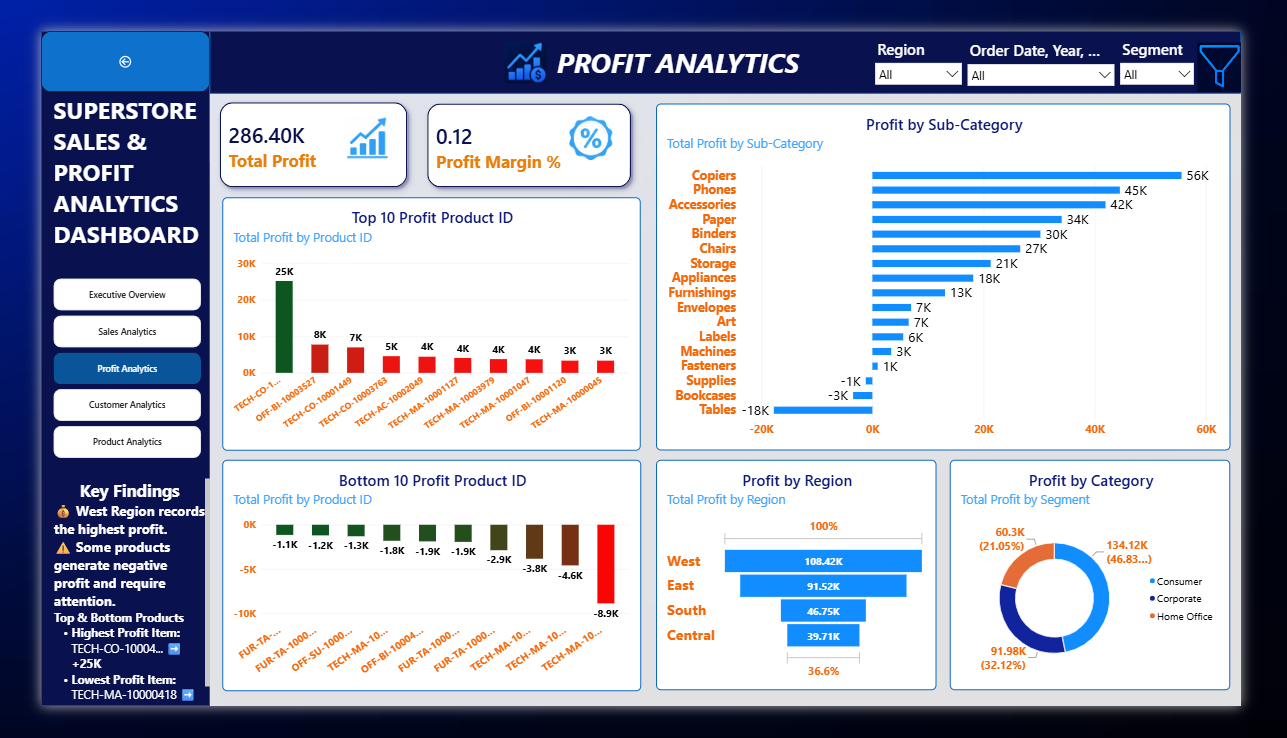

Layout of this report page (visuals, bound fields, positions):
{"tool":"powerbi","page":{"name":"Profit Analytics","canvas":[1920,1080],"ordinal":2},"visuals":[{"type":"shape","box":[0,0,270,1080],"z":0},{"type":"textbox","box":[20,100,250,276],"z":1000},{"type":"pageNavigator","box":[20,396,236,290],"z":2000},{"type":"shape","box":[270,0,1650,100],"z":3000},{"type":"textbox","box":[675,20,697.5,65],"z":4000},{"type":"slicer","fields":{"Values":["Data.Region"]},"box":[1330,12,148,88],"z":5000},{"type":"slicer","fields":{"Values":["Data.Segment"]},"box":[1722.5,12.5,127.5,85],"z":7000},{"type":"cardVisual","fields":{"Data":["Data.Total Profit"]},"box":[270,98,332,168],"z":8000},{"type":"cardVisual","fields":{"Data":["Data.Profit Margin %"]},"box":[602,100,358,166],"z":9000},{"type":"funnel","title":"Profit by Region ","fields":{"Category":["Data.Region"],"Y":["Data.Total Profit"]},"box":[984.5,685.9,448.8,369.2],"z":10000},{"type":"donutChart","title":"Profit by Category ","fields":{"Category":["Data.Segment"],"Y":["Data.Total Profit"]},"box":[1455,685.9,448.8,369.2],"z":11000},{"type":"clusteredBarChart","title":"Profit by Sub-Category","fields":{"Category":["Abbreviations.Sub-Category"],"Y":["Data.Total Profit"]},"box":[984.5,115.8,919.3,555.6],"z":12000},{"type":"actionButton","box":[0,0,270,98],"z":13000},{"type":"columnChart","title":"Top 10 Profit Product ID","fields":{"Y":["Data.Total Profit"],"Category":["Data.Product ID"]},"box":[289.5,266,669.6,405.4],"z":14000},{"type":"columnChart","title":"Bottom 10 Profit Product ID","fields":{"Y":["Data.Total Profit"],"Category":["Data.Product ID"]},"box":[290,685,670,370],"z":15000},{"type":"image","box":[486,136,76,72],"z":16000},{"type":"image","box":[826,136,106,72],"z":17000},{"type":"image","box":[726,18,100,66],"z":18000},{"type":"image","box":[1850,0,70,116],"z":19000},{"type":"slicer","fields":{"Values":["Data.Order Date","Data.Order Date.Variation.Date Hierarchy.Year","Data.Order Date.Variation.Date Hierarchy.Quarter","Data.Order Date.Variation.Date Hierarchy.Month","Data.Order Date.Variation.Date Hierarchy.Day"]},"box":[1478,14,244,88],"z":20000},{"type":"textbox","box":[20,715,250,365],"z":21000}]}

Visuals, with their boxes in screenshot pixels (x1, y1, x2, y2), scaled from the page's 1920x1080 canvas onto the 1287x738 screenshot:
shape: {"left": 0, "top": 0, "right": 181, "bottom": 737}
textbox: {"left": 13, "top": 68, "right": 181, "bottom": 257}
pageNavigator: {"left": 13, "top": 271, "right": 172, "bottom": 469}
shape: {"left": 181, "top": 0, "right": 1286, "bottom": 68}
textbox: {"left": 452, "top": 14, "right": 920, "bottom": 58}
slicer - Data.Region: {"left": 892, "top": 8, "right": 991, "bottom": 68}
slicer - Data.Segment: {"left": 1155, "top": 9, "right": 1240, "bottom": 67}
cardVisual - Data.Total Profit: {"left": 181, "top": 67, "right": 404, "bottom": 182}
cardVisual - Data.Profit Margin %: {"left": 404, "top": 68, "right": 644, "bottom": 182}
"Profit by Region " funnel: {"left": 660, "top": 469, "right": 961, "bottom": 721}
"Profit by Category " donutChart: {"left": 975, "top": 469, "right": 1276, "bottom": 721}
"Profit by Sub-Category" clusteredBarChart: {"left": 660, "top": 79, "right": 1276, "bottom": 459}
actionButton: {"left": 0, "top": 0, "right": 181, "bottom": 67}
"Top 10 Profit Product ID" columnChart: {"left": 194, "top": 182, "right": 643, "bottom": 459}
"Bottom 10 Profit Product ID" columnChart: {"left": 194, "top": 468, "right": 644, "bottom": 721}
image: {"left": 326, "top": 93, "right": 377, "bottom": 142}
image: {"left": 554, "top": 93, "right": 625, "bottom": 142}
image: {"left": 487, "top": 12, "right": 554, "bottom": 57}
image: {"left": 1240, "top": 0, "right": 1286, "bottom": 79}
slicer - Data.Order Date x Data.Order Date.Variation.Date Hierarchy.Year: {"left": 991, "top": 10, "right": 1154, "bottom": 70}
textbox: {"left": 13, "top": 489, "right": 181, "bottom": 737}
